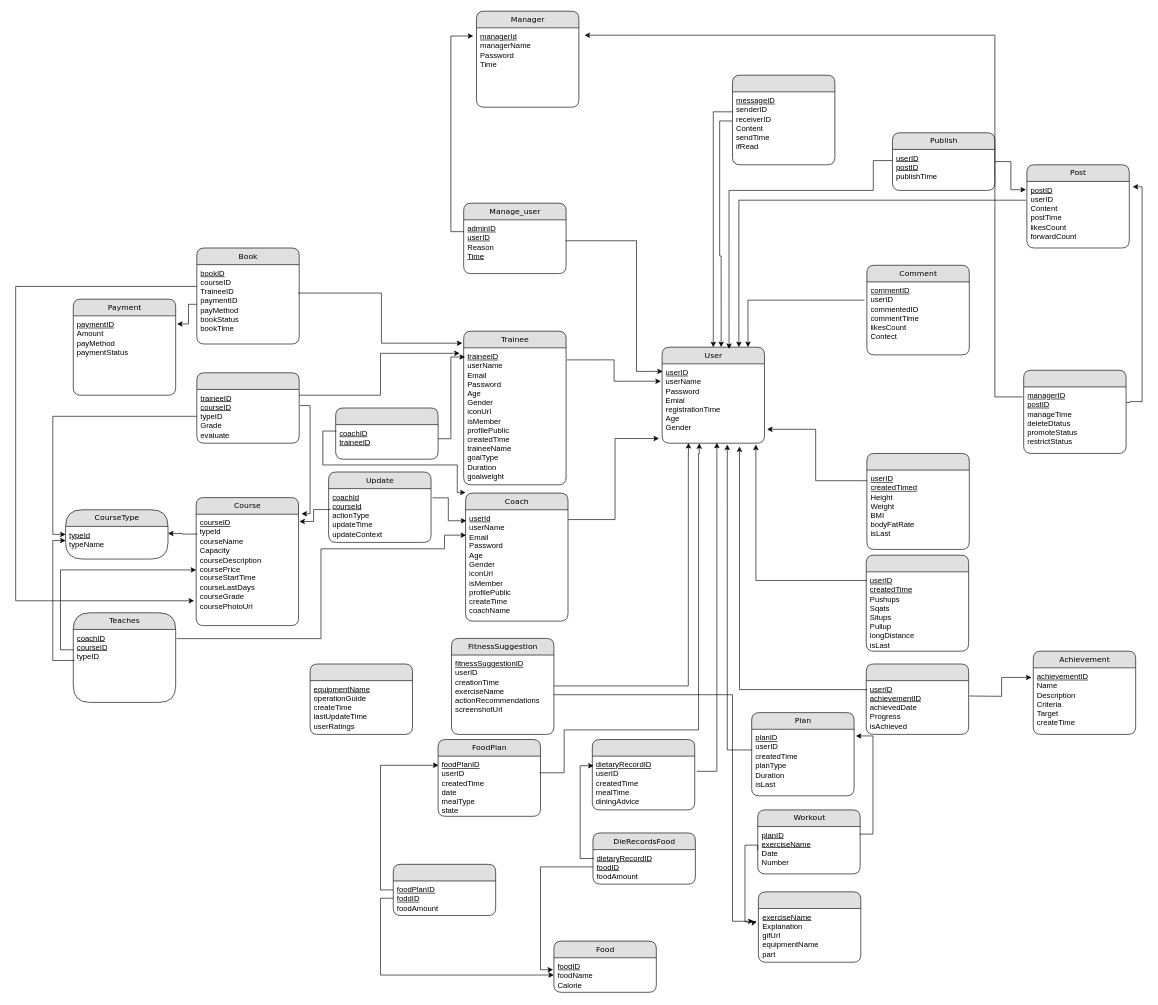
Image size: 1158x1005. Some labels were removed from this diagram. Here are the shapes that lost their labels. From the top down, the box of each, then its label:
(732, 75, 835, 165): Messages
(196, 372, 299, 443): Participate
(1023, 370, 1126, 453): ManagePost
(335, 407, 438, 459): advise
(866, 453, 969, 549): Fitness
(866, 555, 969, 651): PhysicalTest
(309, 663, 412, 734): FitnessEquiOperation
(866, 663, 969, 734): UserAchievement
(592, 739, 695, 810): DietaryRecords
(393, 864, 496, 916): FoodPlanFood
(758, 891, 861, 962): Exercises
